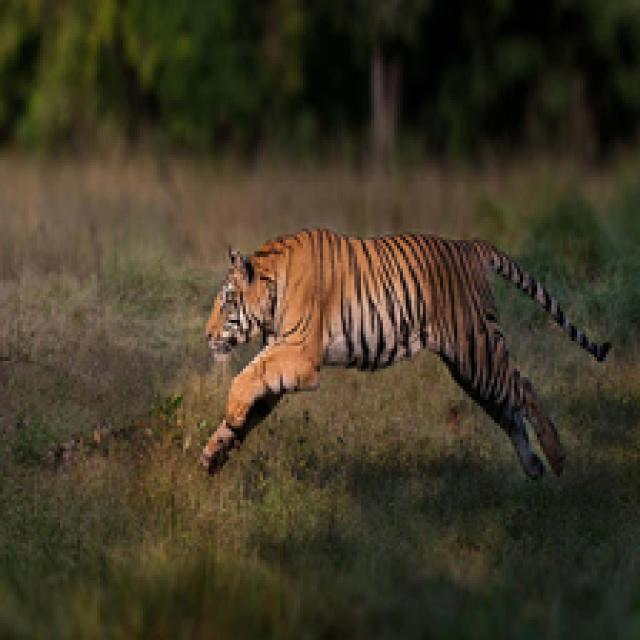tiger: (178, 211, 619, 511)
